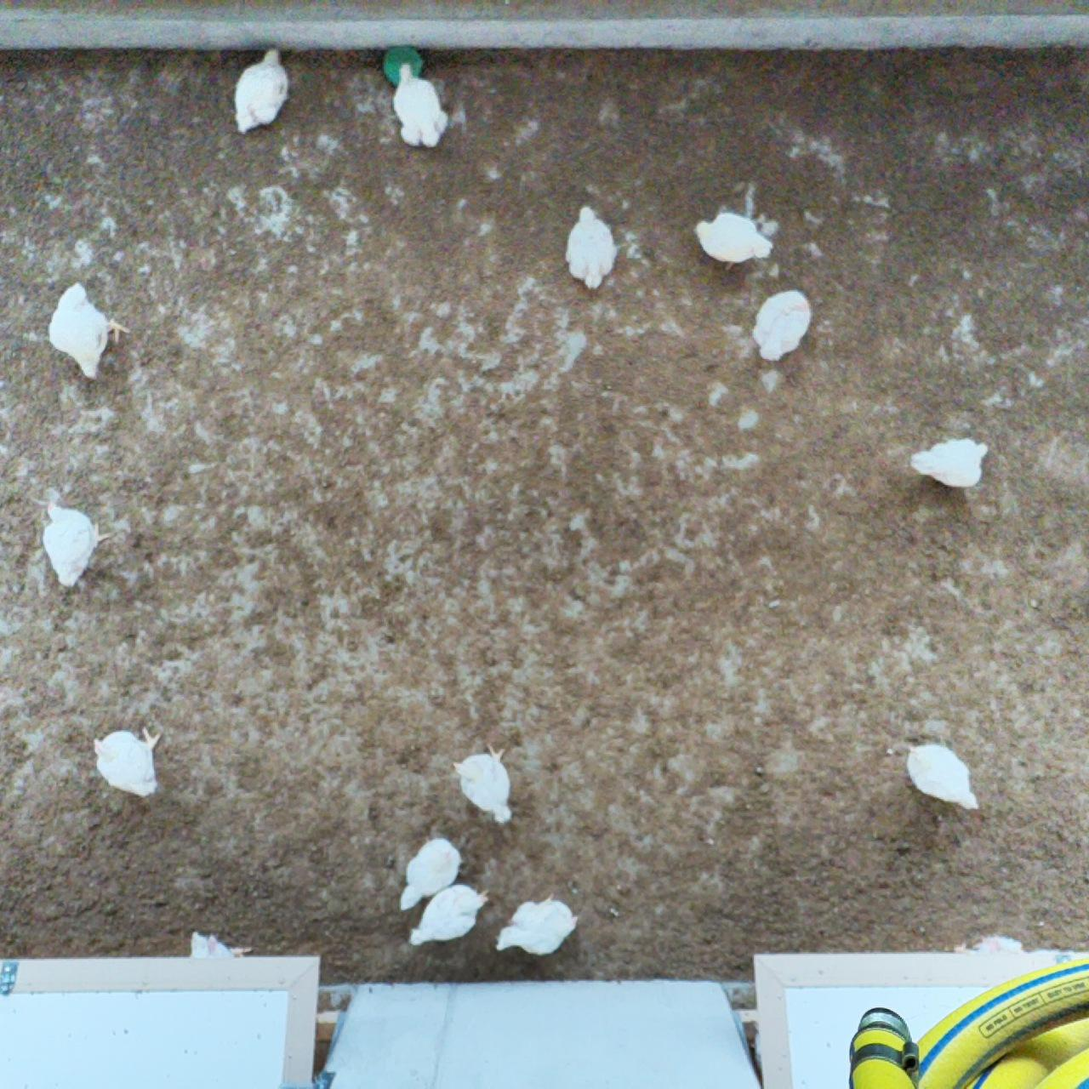chicken: (44, 280, 132, 383), (40, 497, 112, 592), (92, 722, 165, 805), (406, 879, 492, 947), (395, 830, 464, 914), (231, 44, 293, 137), (748, 286, 816, 370), (391, 63, 454, 151), (905, 738, 982, 809), (493, 895, 578, 959), (560, 201, 620, 291), (454, 743, 518, 827), (694, 208, 779, 271), (910, 433, 991, 491), (185, 931, 252, 967), (953, 932, 1028, 956)
